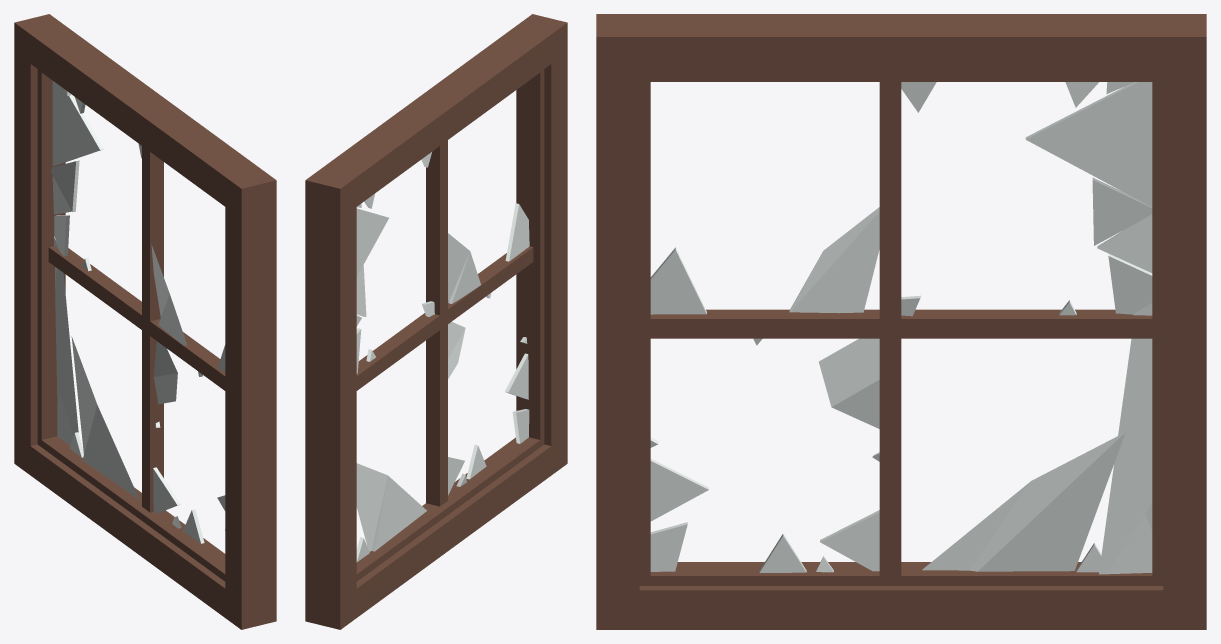
The model's file is Broken_window.glb.
3 renders of one model, left to right at view 1: azimuth 30°, elevation 25°; view 2: azimuth 150°, elevation 25°; view 3: azimuth 270°, elevation 25°, orthographic. The views are drawn at different scales.
Parts seen in each view (by area): view 1: model; view 2: model; view 3: model.
Part boxes in pixels (x1,y1,x2,y2): model: (14,14,276,629); model: (305,14,567,629); model: (596,14,1206,629).
Bounding box in the file's own units: 0.05 × 0.6 × 0.56.
